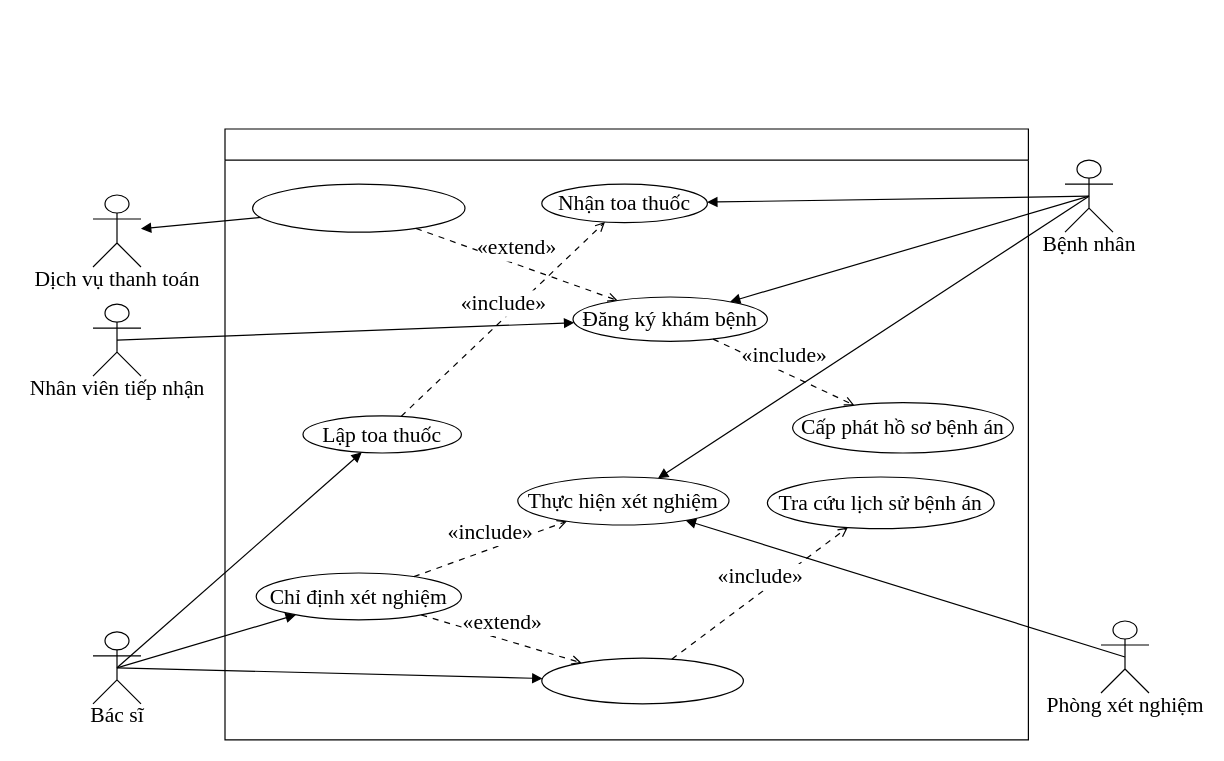
Image size: 1224x761. Some labels were removed from this diagram. Each missing label, with the box of its shape:
Khám bệnh lâm sàng: (541, 657, 743, 704)
Phân rã chi tiết: Đăng ký -> Nhận toa thuốc: (224, 128, 1028, 740)
Đóng lệ phí hàng năm: (251, 183, 465, 232)
